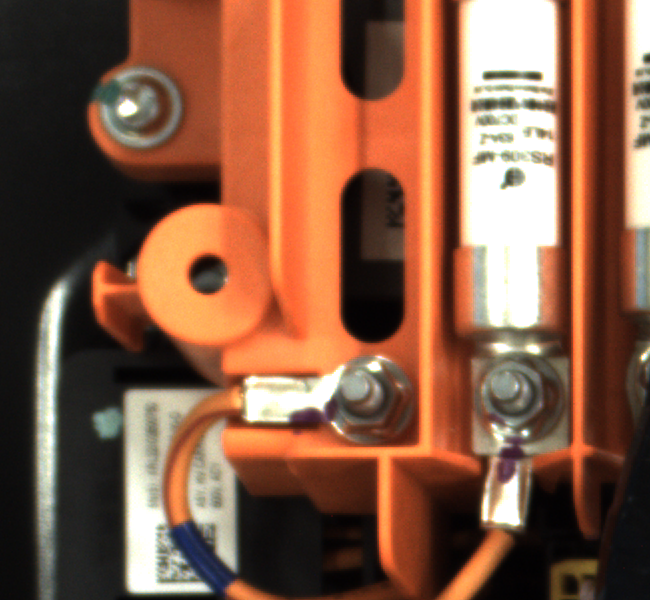screw_m: (103, 61, 195, 158)
screw_s: (459, 336, 590, 458), (297, 352, 422, 449)
